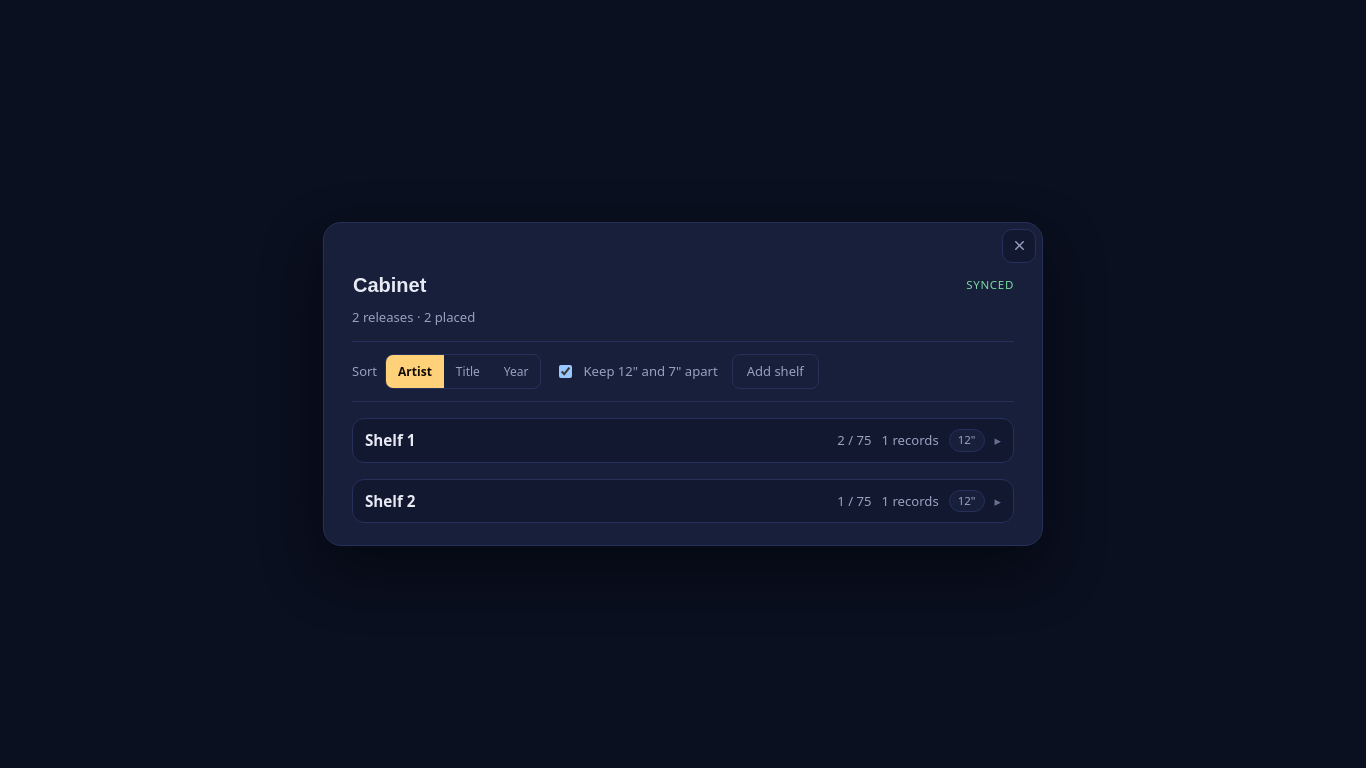
it: CabinetScreen › shows when a release takes two spaces
Click the button "Shelf 1 2 / 75 1 records 12\" ▸" at x=390, y=440, box x1=353 y1=419 x2=1013 y2=462
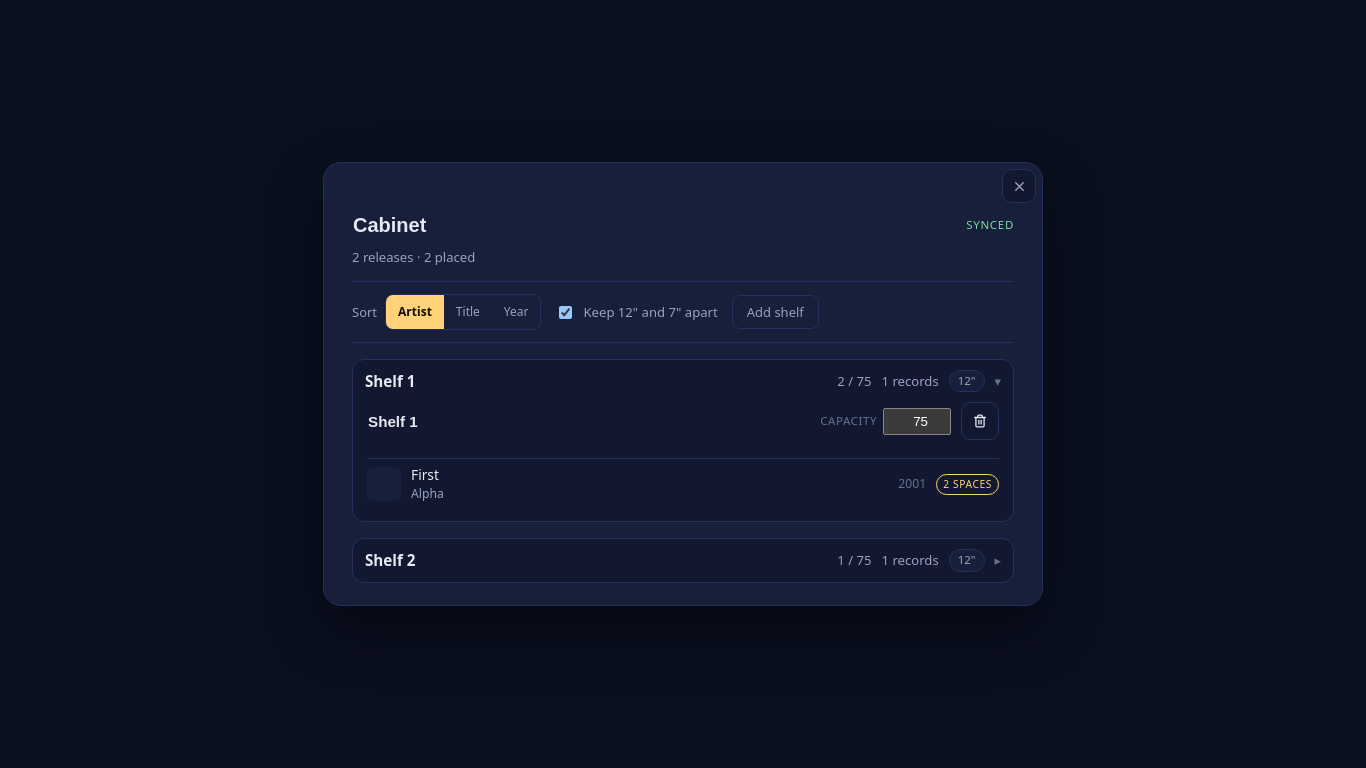
Expected: the text "2 spaces" is shown, x1=936 y1=474 x2=999 y2=495
